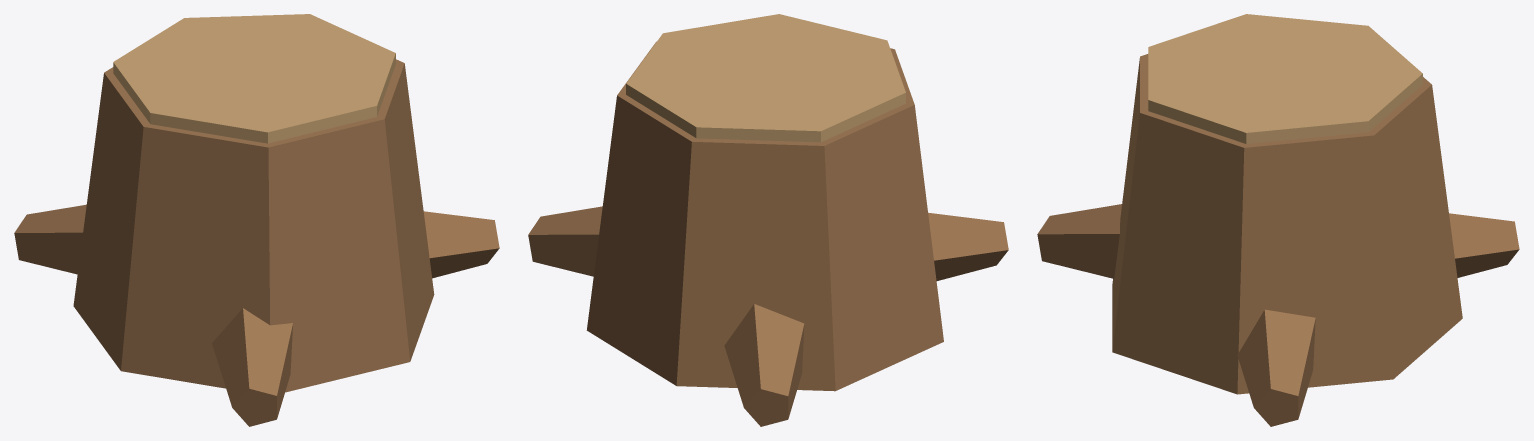
The model's file is stump_a.glb.
The picture shows the model from 3 angles, left to right: view 1: azimuth 30°, elevation 25°; view 2: azimuth 150°, elevation 25°; view 3: azimuth 270°, elevation 25°; orthographic projection.
Visible parts, largest first — view 1: bark, cut, root_1, root_0, root_2; view 2: bark, cut, root_2, root_1, root_0; view 3: bark, cut, root_0, root_1, root_2.
Part boxes in pixels (x1,y1,x2,y2): bark: (73,59,434,392); cut: (113,14,395,143); root_1: (212,308,292,426); root_0: (423,211,499,278); root_2: (14,204,86,274); bark: (586,41,943,391); cut: (626,14,905,142); root_2: (724,304,804,426); root_1: (928,212,1008,280); root_0: (528,206,602,276); bark: (1112,54,1462,394); cut: (1148,14,1422,143); root_0: (1237,309,1315,426); root_1: (1037,204,1121,278); root_2: (1449,213,1519,277).
Bounding box in the file's own units: 0.7294 × 0.44 × 0.7847.
